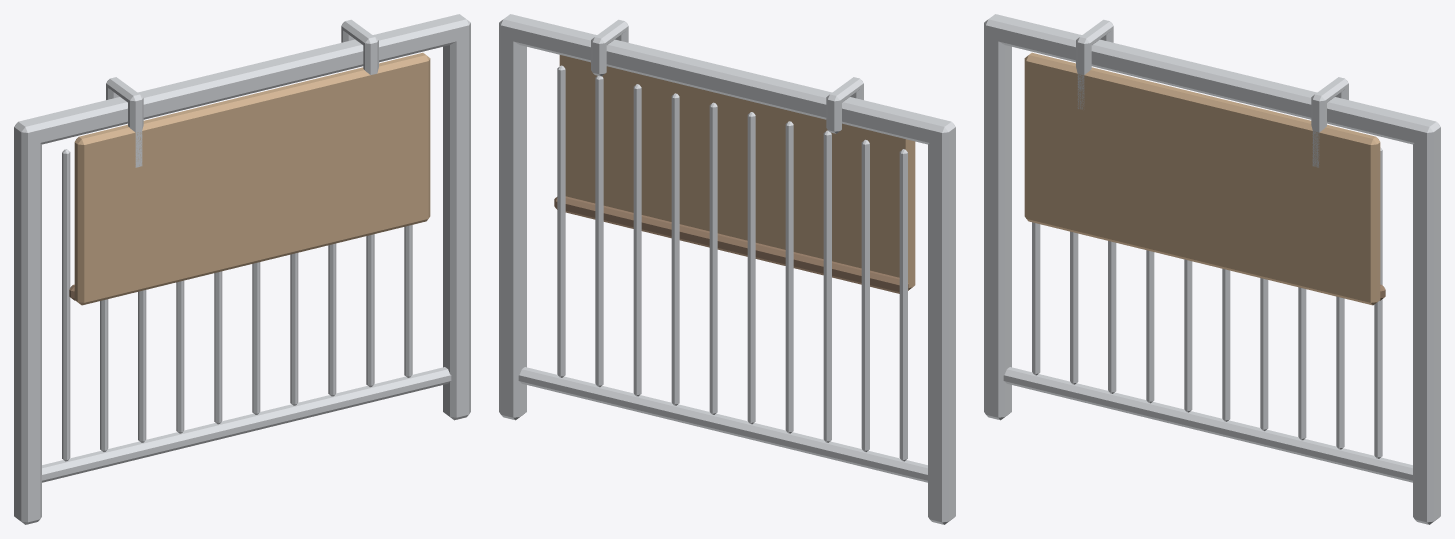
Rendered from RailingFoldTable.glb.
3 views of the same model, side by side, from view 1: azimuth 30°, elevation 25°; view 2: azimuth 150°, elevation 25°; view 3: azimuth 330°, elevation 25° (orthographic).
Parts seen in each view (by area): view 1: RailingFoldTable_Top, RailingFoldTable_Railing; view 2: RailingFoldTable_Railing, RailingFoldTable_Top; view 3: RailingFoldTable_Top, RailingFoldTable_Railing.
Part boxes in pixels (box(x1,y1,x2,y2)): RailingFoldTable_Top: box(69, 52, 430, 305); RailingFoldTable_Railing: box(14, 14, 470, 524); RailingFoldTable_Railing: box(499, 14, 955, 524); RailingFoldTable_Top: box(554, 55, 915, 293); RailingFoldTable_Top: box(1024, 52, 1385, 305); RailingFoldTable_Railing: box(984, 14, 1440, 524).
Bounding box in the file's own units: 1.3 × 1.14 × 0.14.
